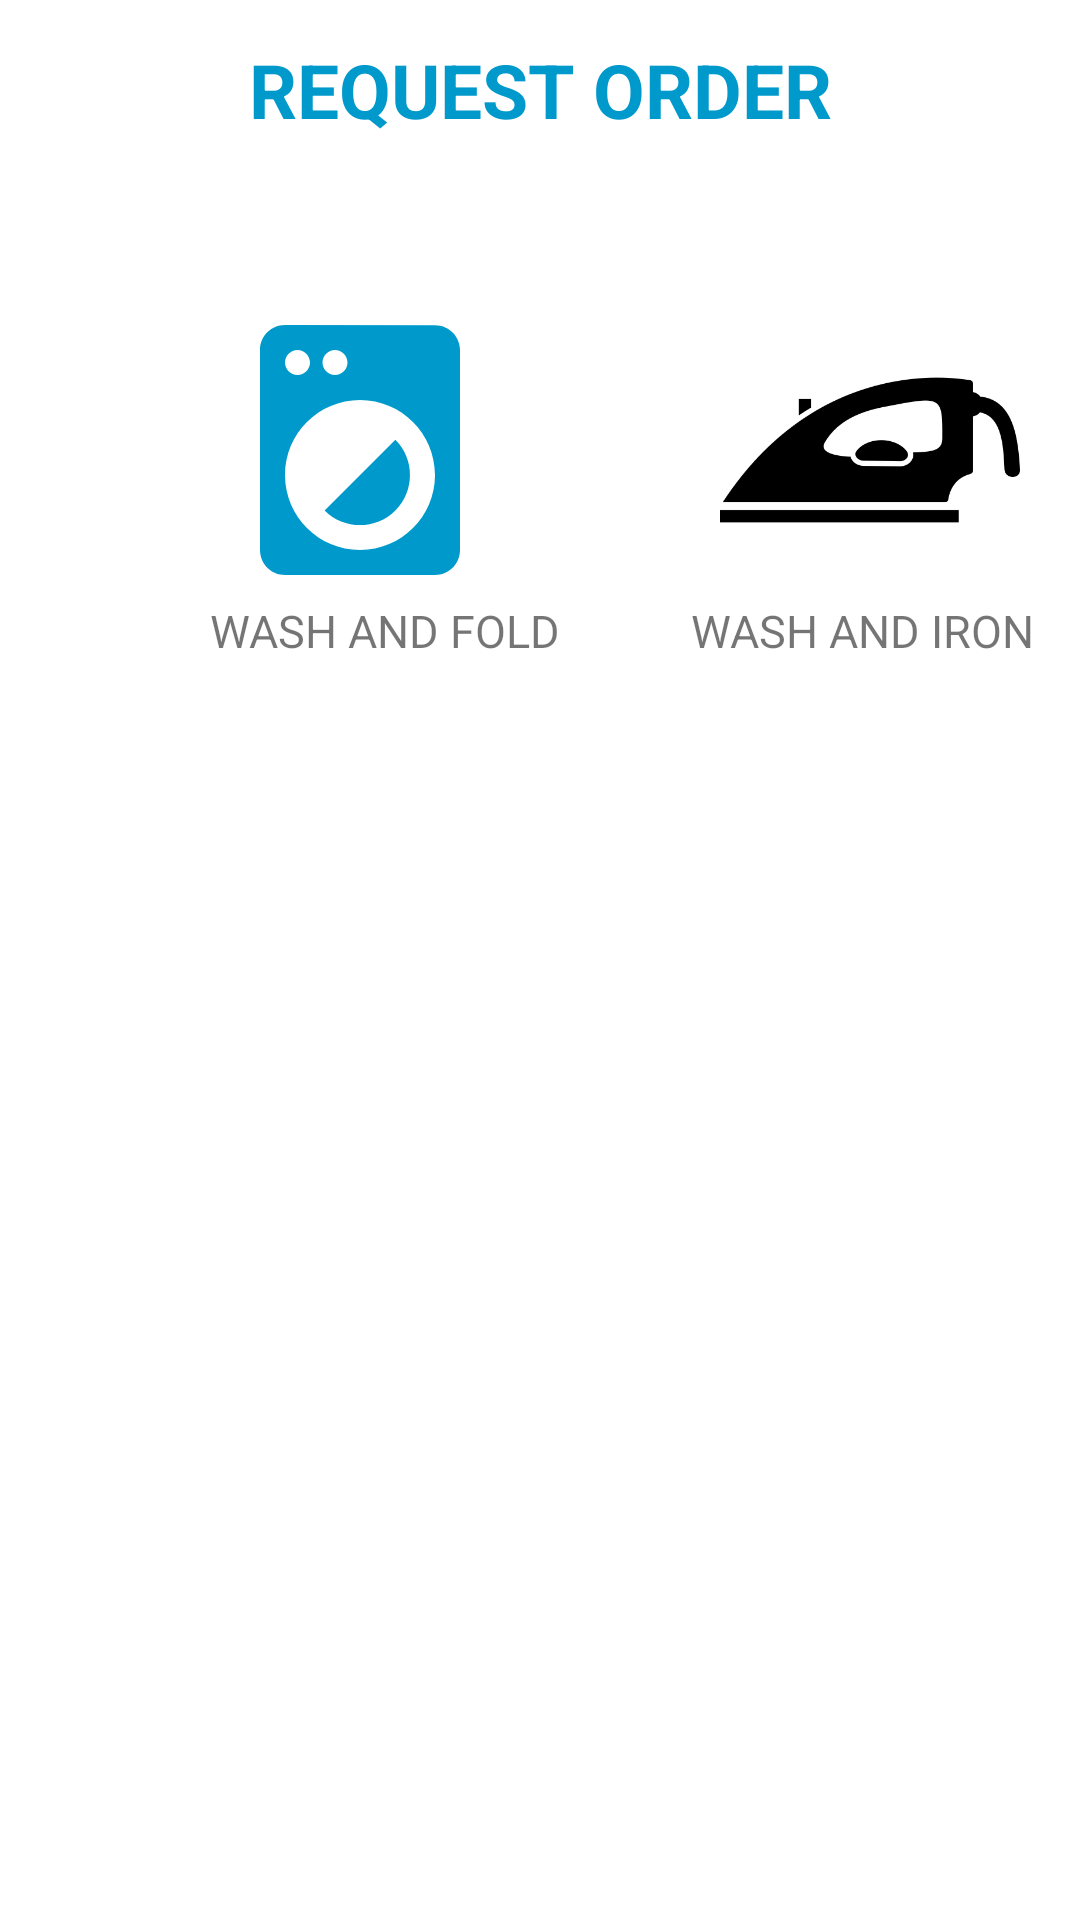

Screen size 1080w x 1920h. Icon name, then its center in pixels as point (x, y):
laundry pickup: point (360, 450)
laundry pickup iron: point (870, 450)
